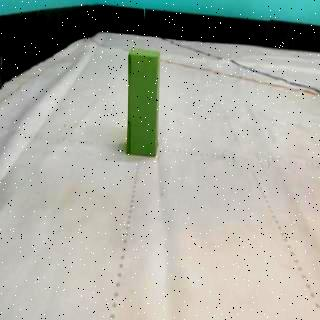greenbox: (125, 44, 164, 158)
